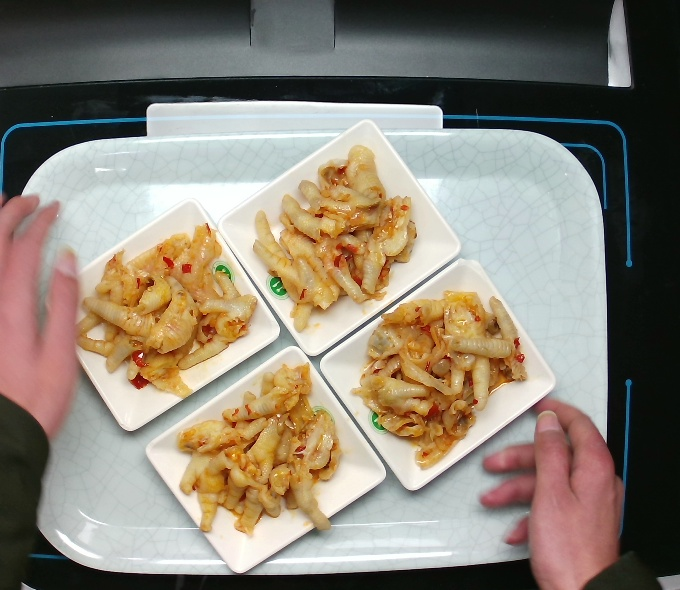wcq-LuJiZhua: (347, 278, 532, 478), (162, 347, 348, 543), (71, 224, 266, 403), (248, 143, 427, 337)
